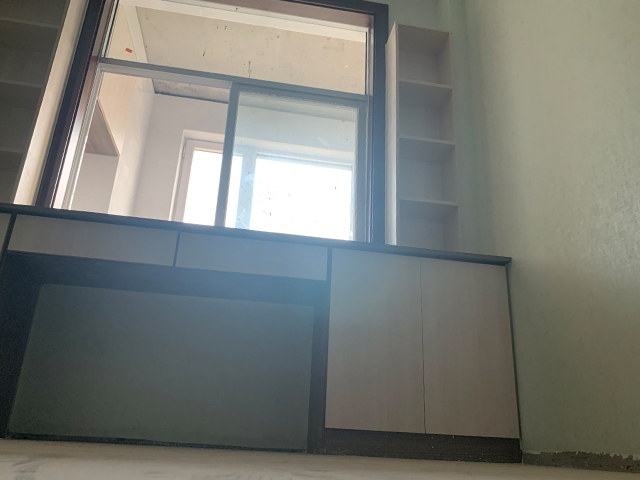table: (1, 202, 510, 466)
